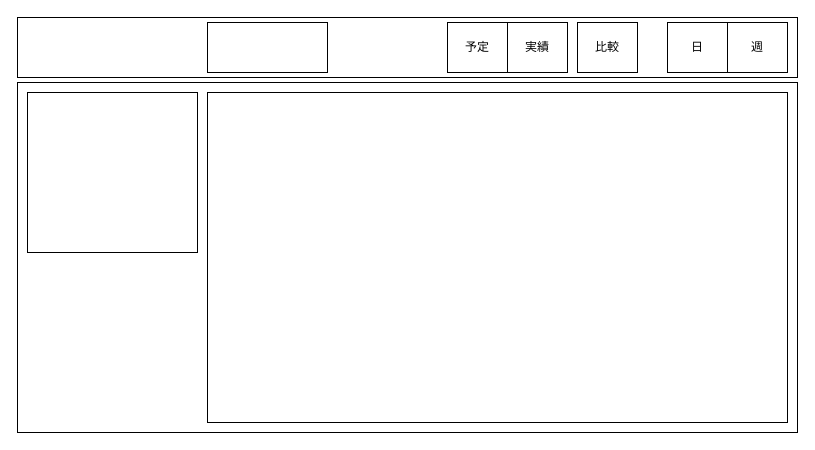
The diagram is 815 pixels wide and 450 high, and some of its shapes have lost their labels. Here are the shapes that lost their labels. From the top down, the centre of each, then its label:
At pixel 267 47: "タスク登録".
At pixel 112 172: "カレンダー(月)".
At pixel 497 257: "カレンダー(日/週)".
